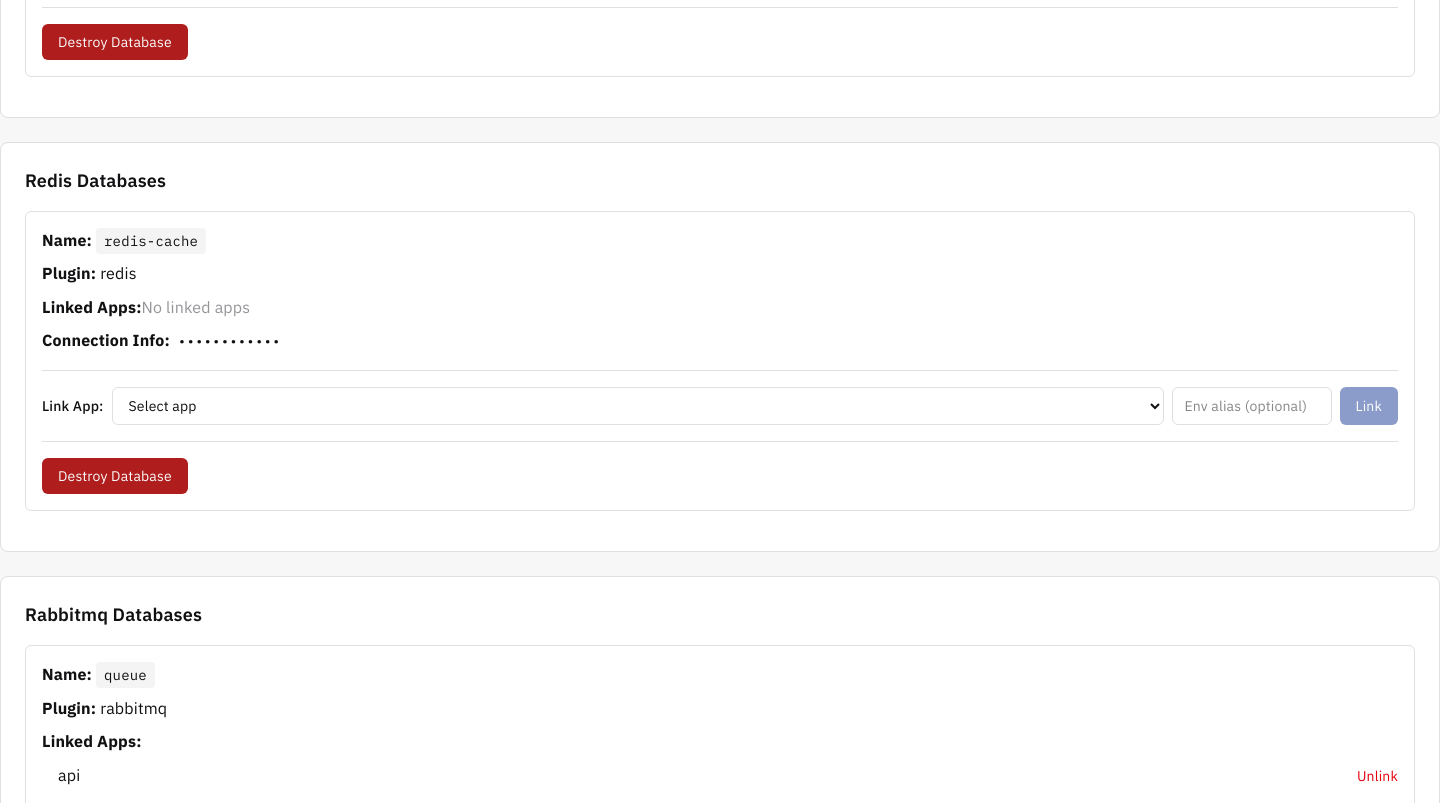
Test: Databases › with submitting states › should disable link button during database linking
This screenshot has width=1440, height=803.
(page scrolled)
Check: the text "redis-cache" is shown, box left=96, top=228, right=206, bottom=254
Select "my-app" in the dropdown named "Link app selector" at (638, 406), box left=112, top=387, right=1164, bottom=425
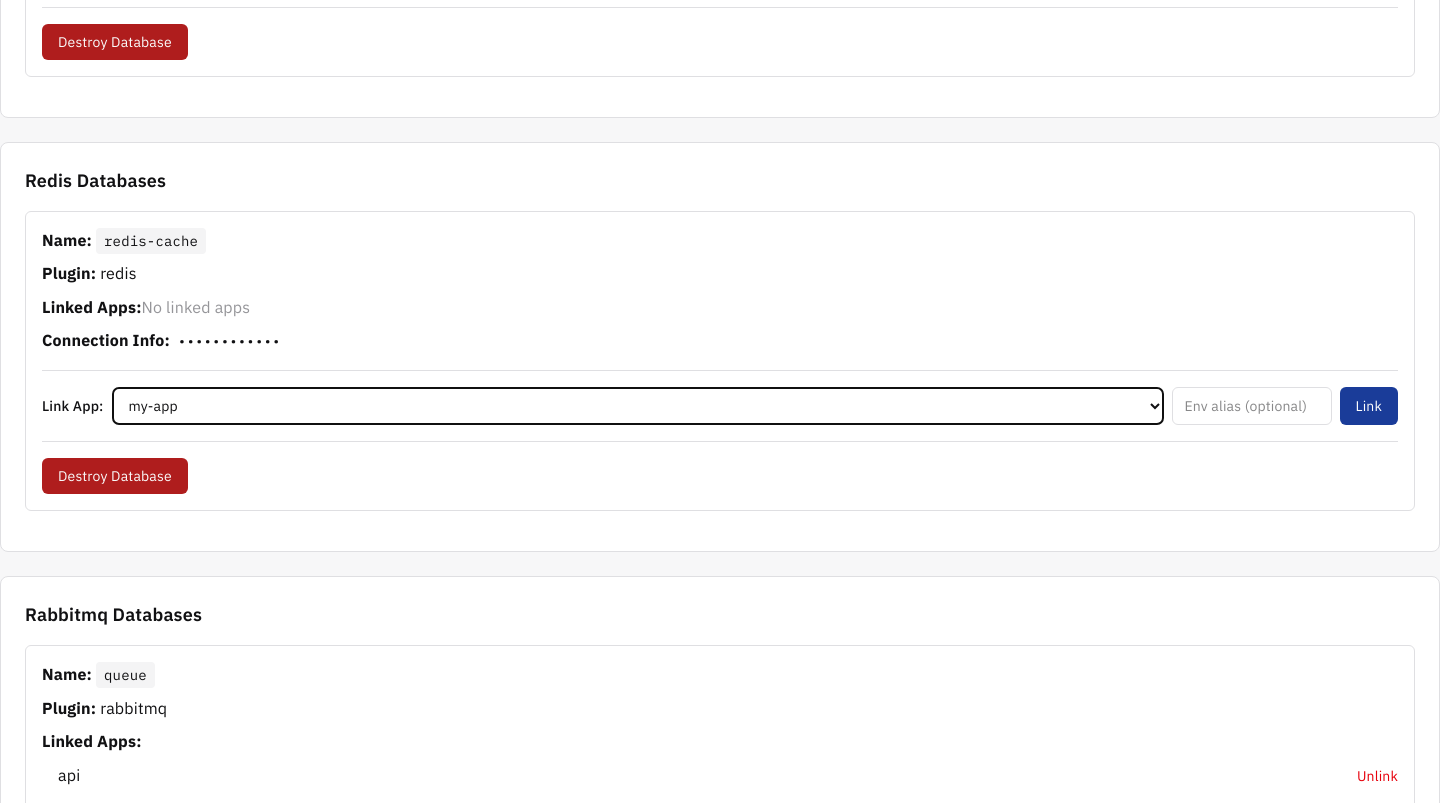
Check: the button "Link" is enabled
Click the button "Link" at (1369, 406), box left=1340, top=387, right=1398, bottom=425
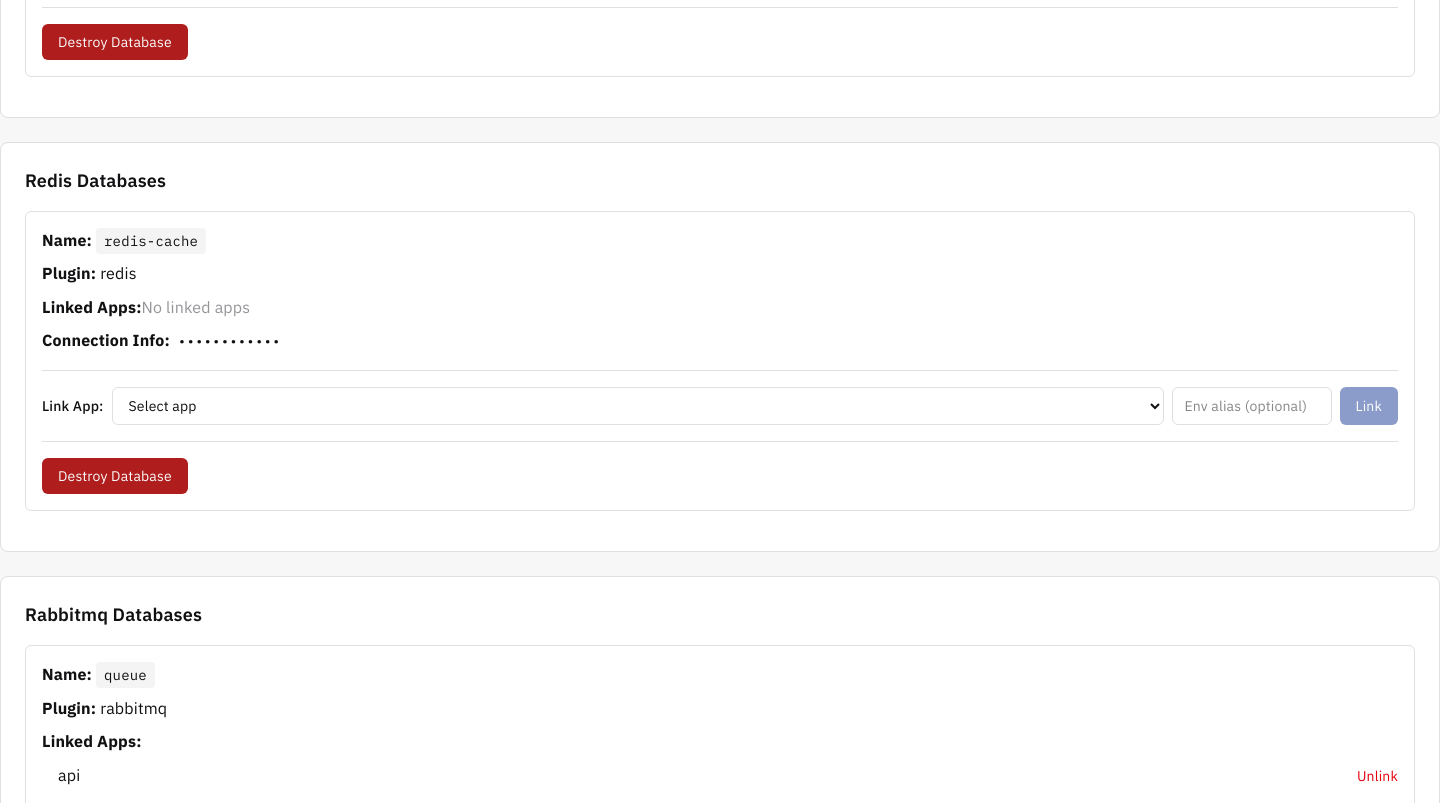
Check: the button "Link" is disabled, box left=1340, top=387, right=1398, bottom=425
